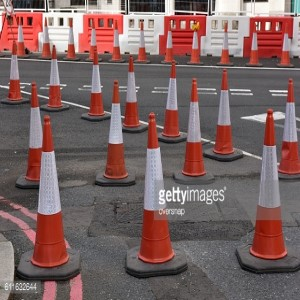traffic cone: (235, 108, 300, 275), (17, 114, 80, 280), (126, 111, 188, 278), (173, 77, 216, 185), (95, 79, 136, 187), (16, 81, 56, 190), (203, 68, 243, 161), (267, 76, 299, 181), (156, 59, 188, 144), (116, 55, 150, 134), (80, 48, 112, 121), (37, 44, 70, 112), (1, 40, 29, 105), (62, 16, 81, 61), (133, 18, 152, 63), (274, 25, 294, 67), (37, 16, 56, 60), (216, 21, 234, 66), (186, 23, 205, 65), (245, 22, 263, 66), (107, 19, 125, 62), (13, 16, 31, 58), (85, 18, 102, 61), (160, 22, 177, 63)
